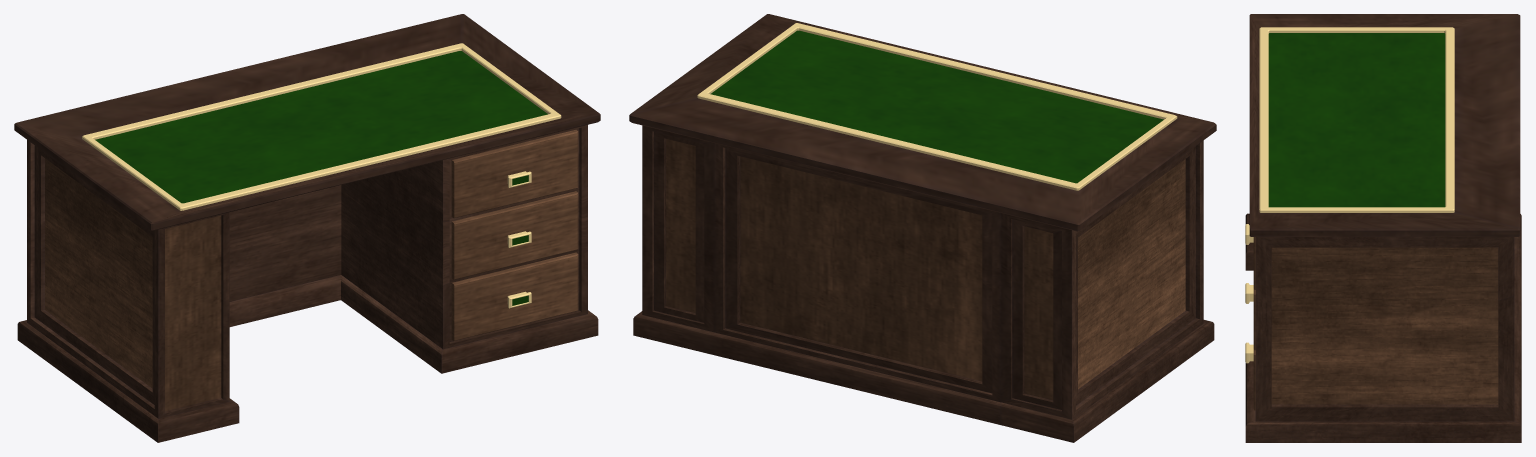
Rendered from Table I.fbx.
3 views of the same model, side by side, from view 1: azimuth 30°, elevation 25°; view 2: azimuth 150°, elevation 25°; view 3: azimuth 270°, elevation 25° (orthographic).
Parts seen in each view (by area): view 1: Plane.002, Plane.003, Plane.006, Plane.005, Plane.004; view 2: Plane.002, Plane.003; view 3: Plane.003, Plane.002.
Boxes of the visible parts, <box> form: Plane.002: <box>17,125,598,442</box>; Plane.003: <box>14,14,600,230</box>; Plane.006: <box>451,252,578,340</box>; Plane.005: <box>451,191,578,279</box>; Plane.004: <box>451,130,578,218</box>; Plane.002: <box>633,125,1214,442</box>; Plane.003: <box>629,14,1216,231</box>; Plane.003: <box>1249,14,1520,236</box>; Plane.002: <box>1245,213,1521,442</box>.
Size of the model in its own units: 144 by 68.12 by 77.94.
